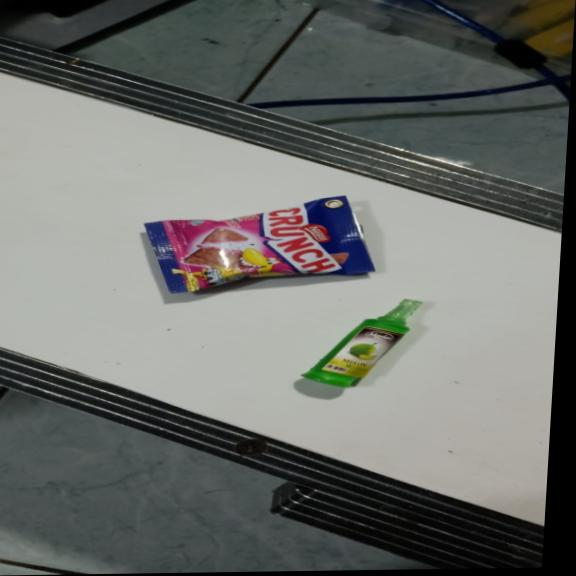Plastik: (138, 195, 380, 294), (300, 299, 423, 387)
